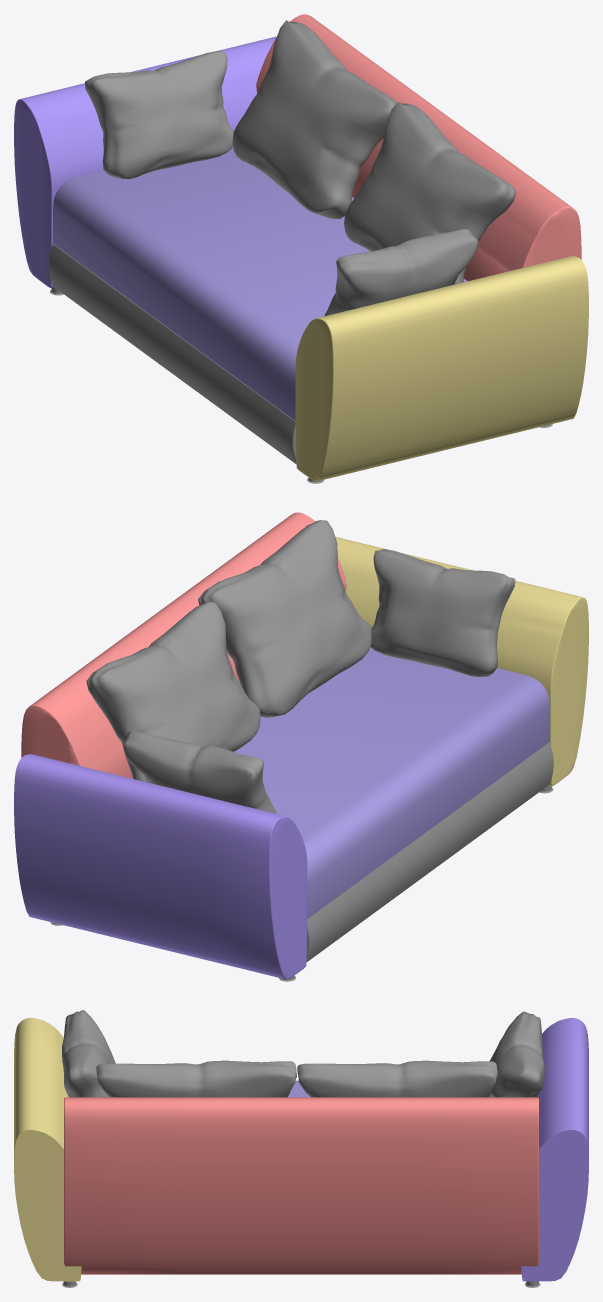
The model's file is Sofa.FBX.
3 views of the same model, one above another, from view 1: azimuth 30°, elevation 25°; view 2: azimuth 150°, elevation 25°; view 3: azimuth 270°, elevation 25° (orthographic). The views are drawn at different scales.
Visible parts, largest first — view 1: Left side, Big Pillow, Pillow 3, Pillow 4, Pillow 2, Right side, Center, Sofa lower part, Pillow 1; view 2: Right side, Big Pillow, Pillow 4, Pillow 3, Left side, Pillow 1, Center, Sofa lower part, Pillow 2; view 3: Center, Left side, Right side, Pillow 3, Pillow 4, Pillow 2, Pillow 1.
Boxes of the visible parts, x1,y1,x2,y2 form: Left side: [295, 256, 588, 481]; Big Pillow: [53, 147, 467, 420]; Pillow 3: [232, 20, 397, 218]; Pillow 4: [344, 102, 516, 284]; Pillow 2: [85, 51, 233, 179]; Right side: [14, 36, 276, 288]; Center: [256, 14, 581, 281]; Sofa lower part: [48, 244, 296, 463]; Pillow 1: [324, 228, 477, 316]; Right side: [14, 754, 307, 979]; Big Pillow: [234, 647, 549, 918]; Pillow 4: [198, 520, 371, 717]; Pillow 3: [86, 601, 260, 782]; Left side: [335, 537, 588, 786]; Pillow 1: [370, 549, 515, 676]; Center: [21, 512, 346, 778]; Sofa lower part: [306, 742, 553, 961]; Pillow 2: [123, 731, 276, 813]; Center: [64, 1097, 538, 1274]; Left side: [14, 1018, 81, 1281]; Right side: [521, 1018, 588, 1281]; Pillow 3: [297, 1060, 497, 1097]; Pillow 4: [96, 1060, 296, 1097]; Pillow 2: [489, 1011, 544, 1097]; Pillow 1: [62, 1010, 115, 1097].
Bounding box in the file's own units: 44.95 × 36.4 × 88.98.
